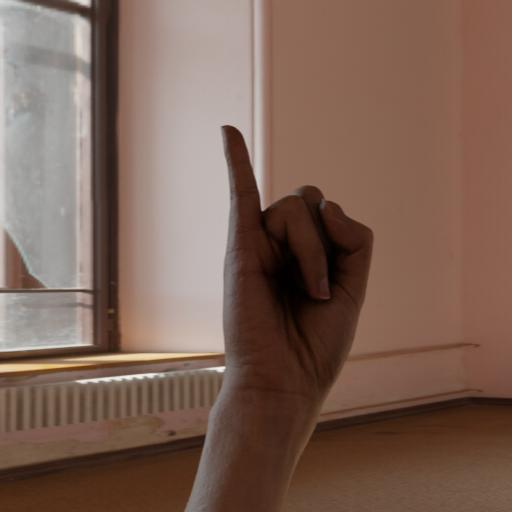I: (210, 121, 382, 425)
